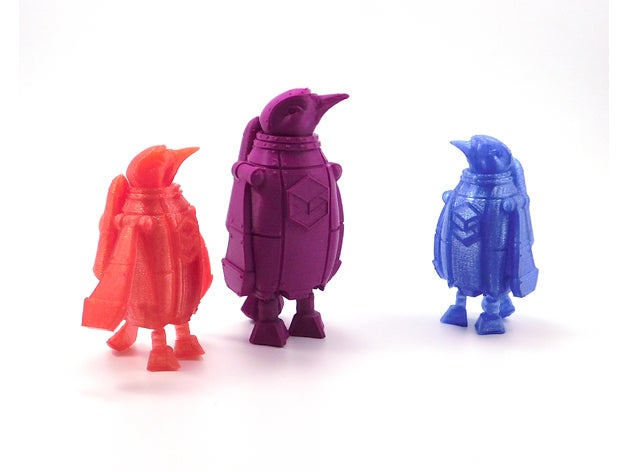Good: (60, 67, 574, 390)
